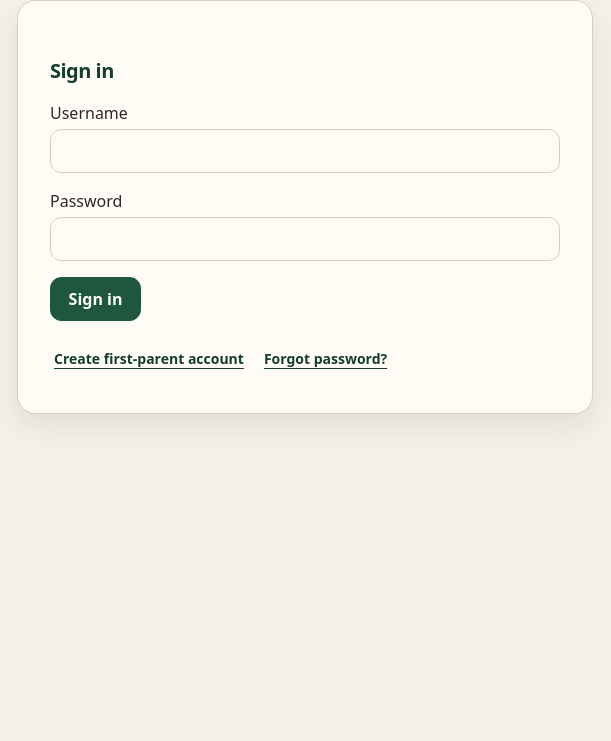
Test case: ProductionBootstrap › renders an accessible duplicate-username field conflict
The image size is (611, 741).
Click the button "Create first-parent account": [149, 359] box [50,337,248,381]
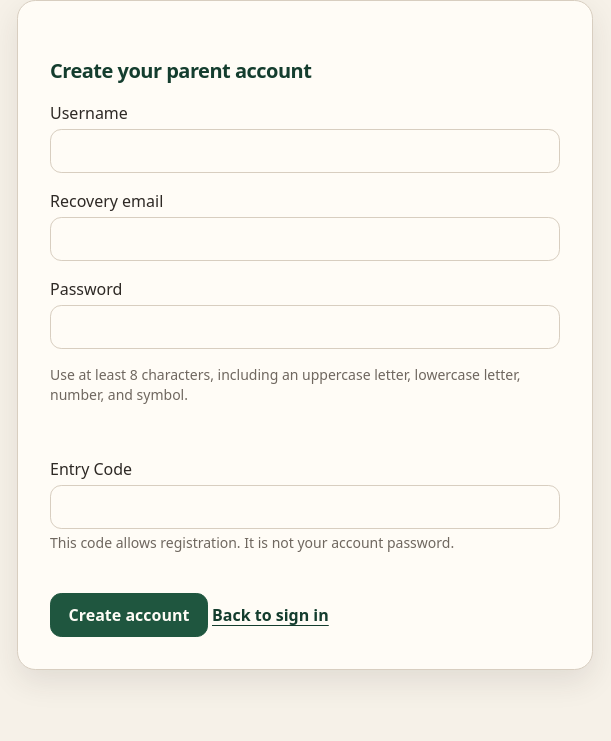
In the field labelled "Username": [305, 151] box [50,129,560,173], type "ParentOne"
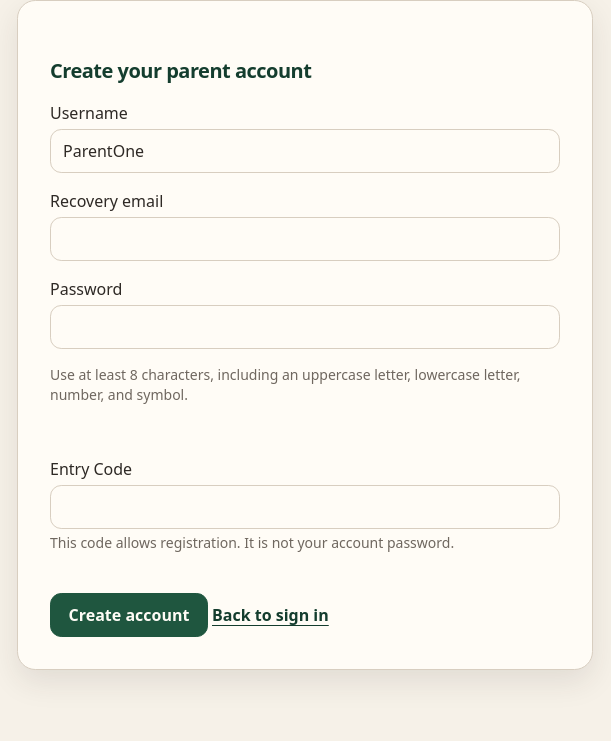
In the field labelled "Recovery email": [305, 239] box [50,217,560,261], type "parent@example.invalid"
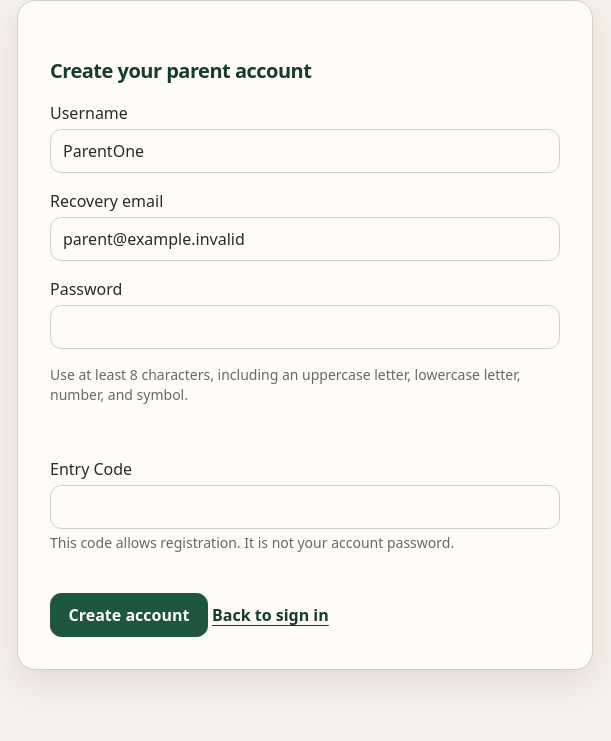
In the password field labelled "Password": [305, 327] box [50,305,560,349], type "StrongPassword123!"
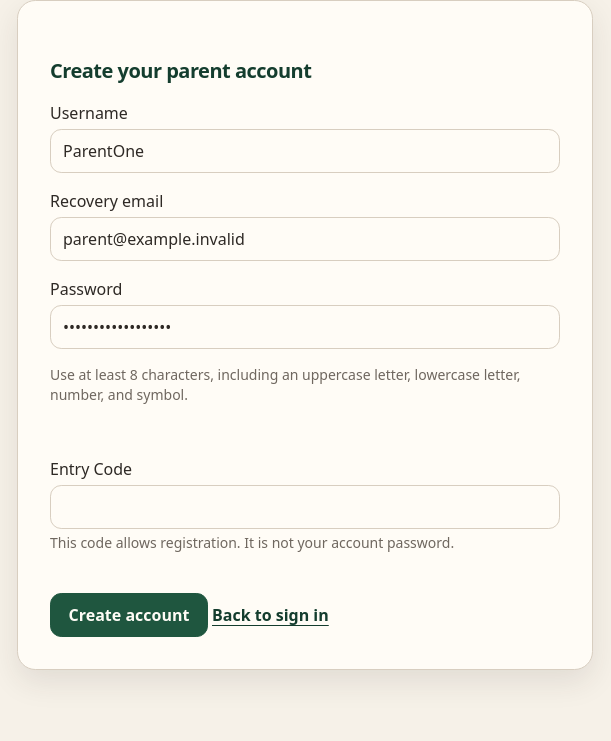
In the 2nd password field: [305, 507] box [50,485,560,529], type "gate-private"
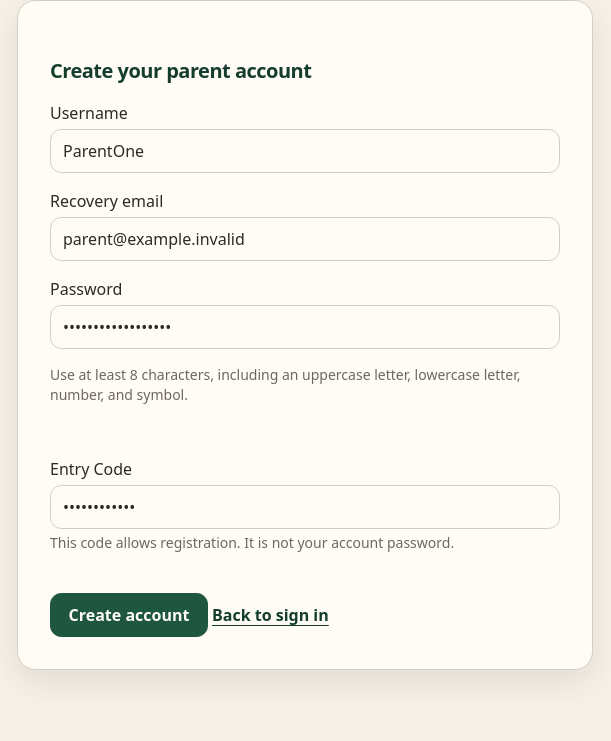
Submit the form
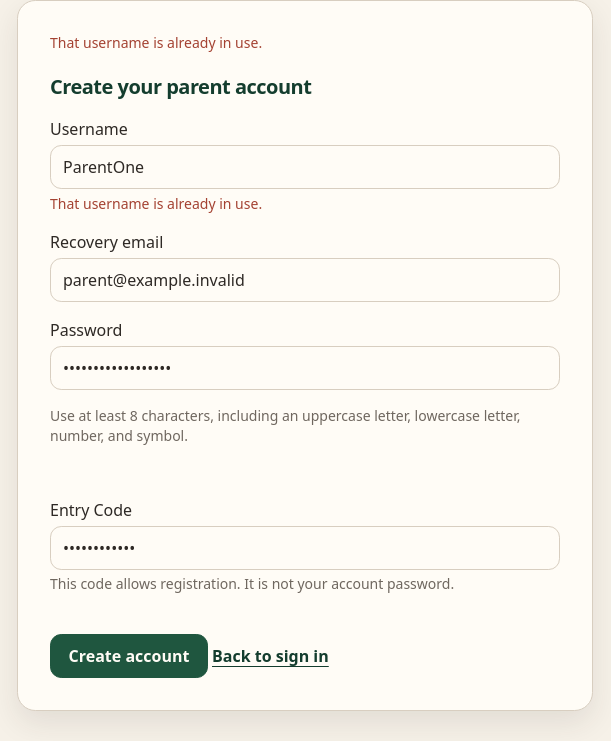
Expected: the text "already in use" is shown, [50,33,262,52]
